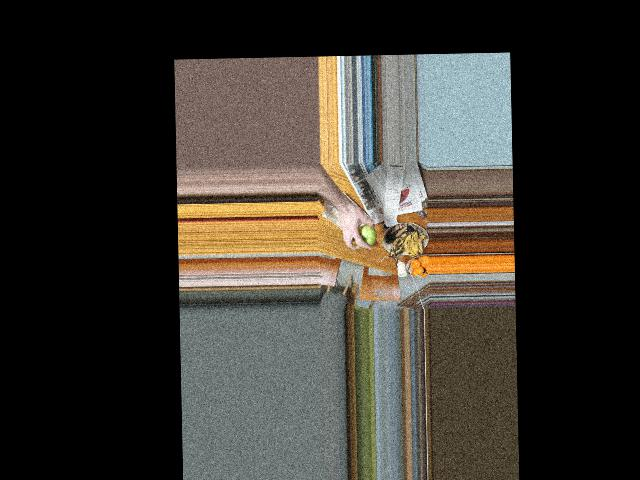apple: (356, 224, 375, 245)
